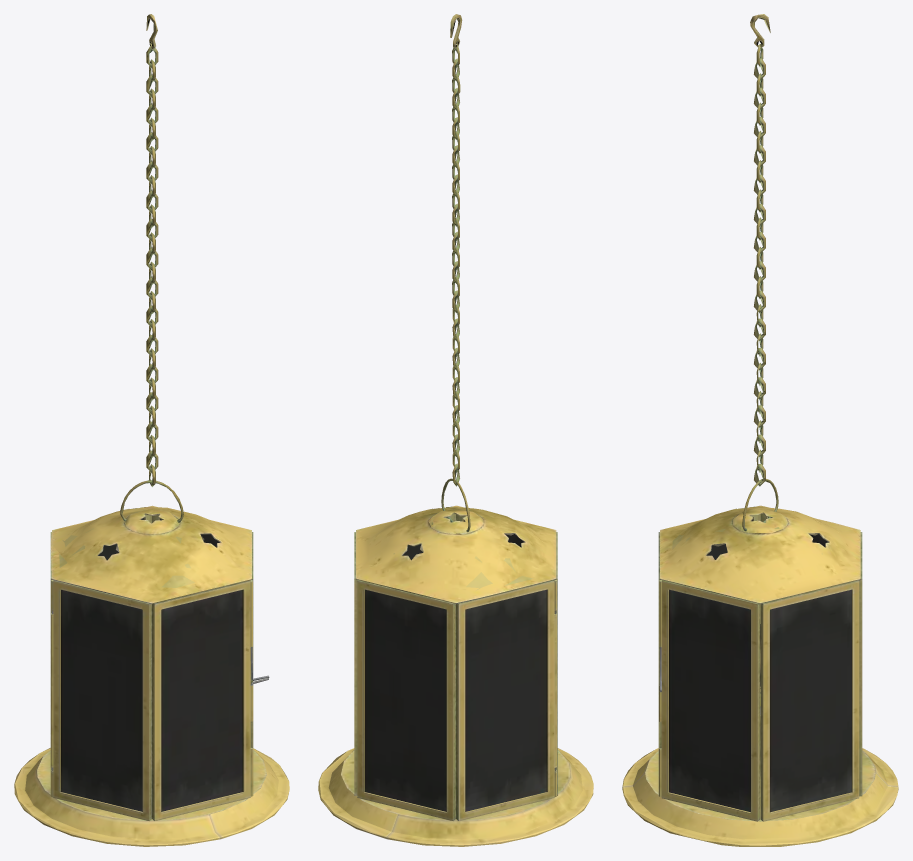
The model's file is brass_diya_lantern.glb.
3 views of the same model, side by side, from view 1: azimuth 30°, elevation 25°; view 2: azimuth 150°, elevation 25°; view 3: azimuth 270°, elevation 25° (orthographic).
Parts seen in each view (by area): view 1: brass_diya_lantern, brass_diya_lantern_chain; view 2: brass_diya_lantern, brass_diya_lantern_chain; view 3: brass_diya_lantern, brass_diya_lantern_chain.
Part boxes in pixels (left/top/right/bottom): brass_diya_lantern: left=14, top=505, right=289, bottom=846; brass_diya_lantern_chain: left=146, top=14, right=158, bottom=486; brass_diya_lantern: left=318, top=505, right=593, bottom=846; brass_diya_lantern_chain: left=450, top=14, right=462, bottom=486; brass_diya_lantern: left=622, top=505, right=898, bottom=846; brass_diya_lantern_chain: left=750, top=14, right=770, bottom=486.
Bounding box in the file's own units: 0.123 × 0.3807 × 0.123.
3 materials, 3 textured.
